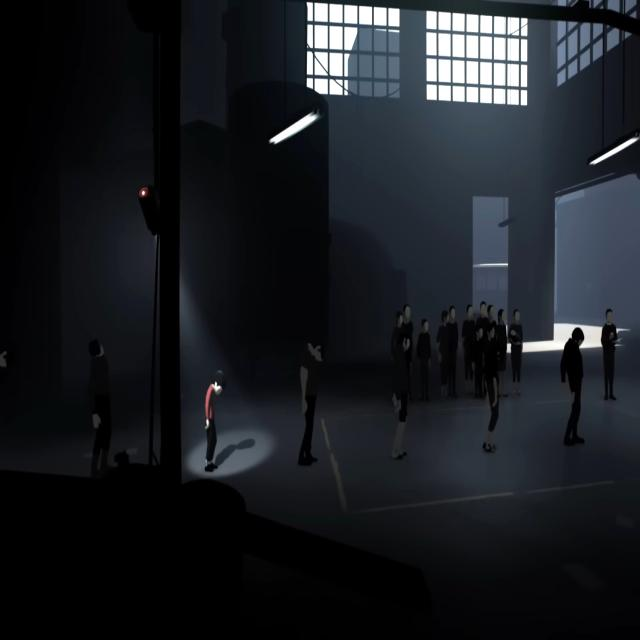boy: (204, 370, 226, 472)
human: (600, 308, 624, 401), (508, 308, 523, 396), (416, 318, 431, 402), (462, 304, 475, 395), (436, 310, 449, 400), (497, 309, 508, 397), (448, 306, 458, 400), (472, 323, 483, 399), (476, 301, 489, 323), (484, 324, 496, 340), (487, 304, 496, 324)
zombie: (88, 339, 112, 476), (298, 341, 324, 466), (560, 327, 584, 446), (392, 332, 410, 459), (483, 339, 499, 452), (0, 347, 13, 372)
